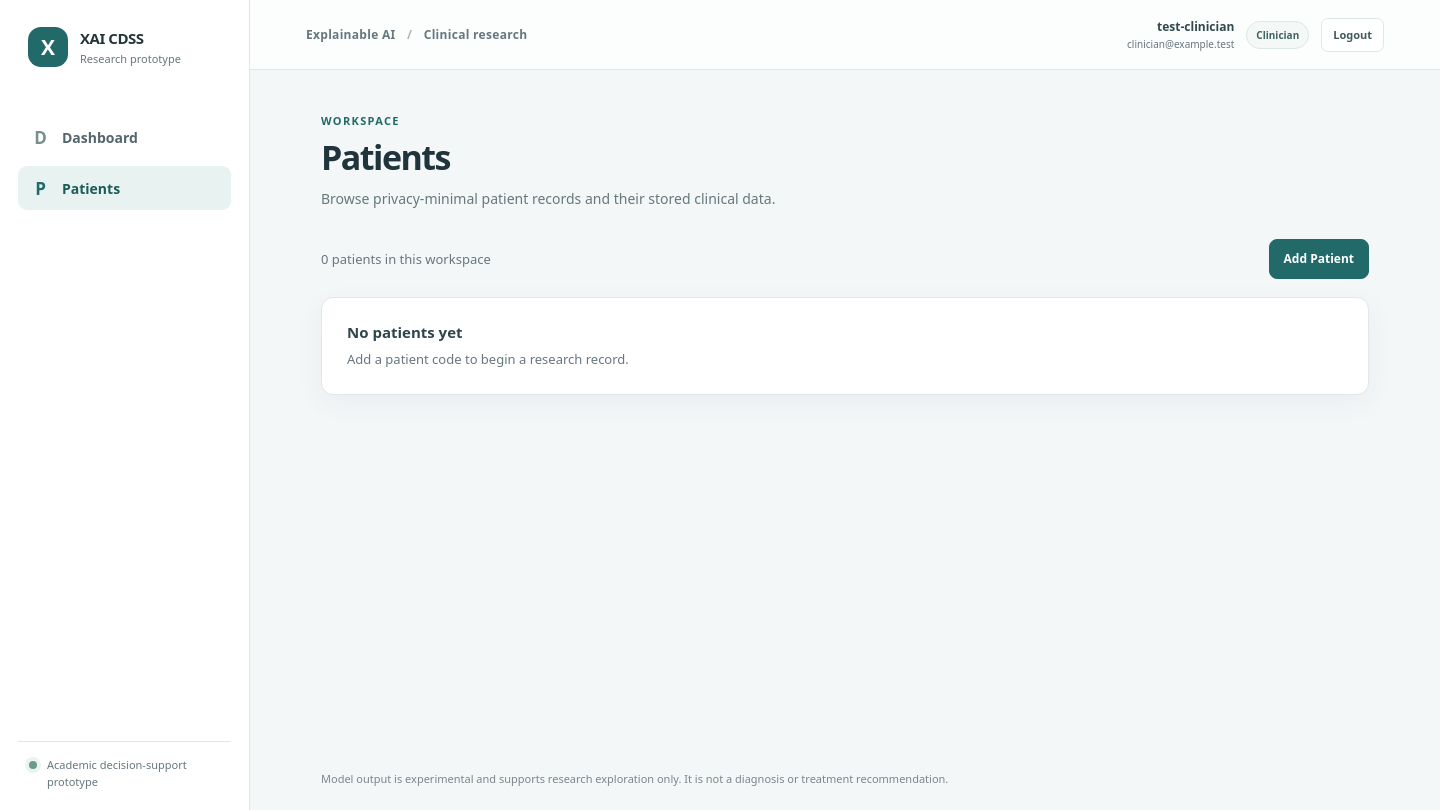
Test: patient management UI › validates patient code before submitting
Step 1. Click the button "Add Patient" → (1319, 259), box [1269,239,1369,279]
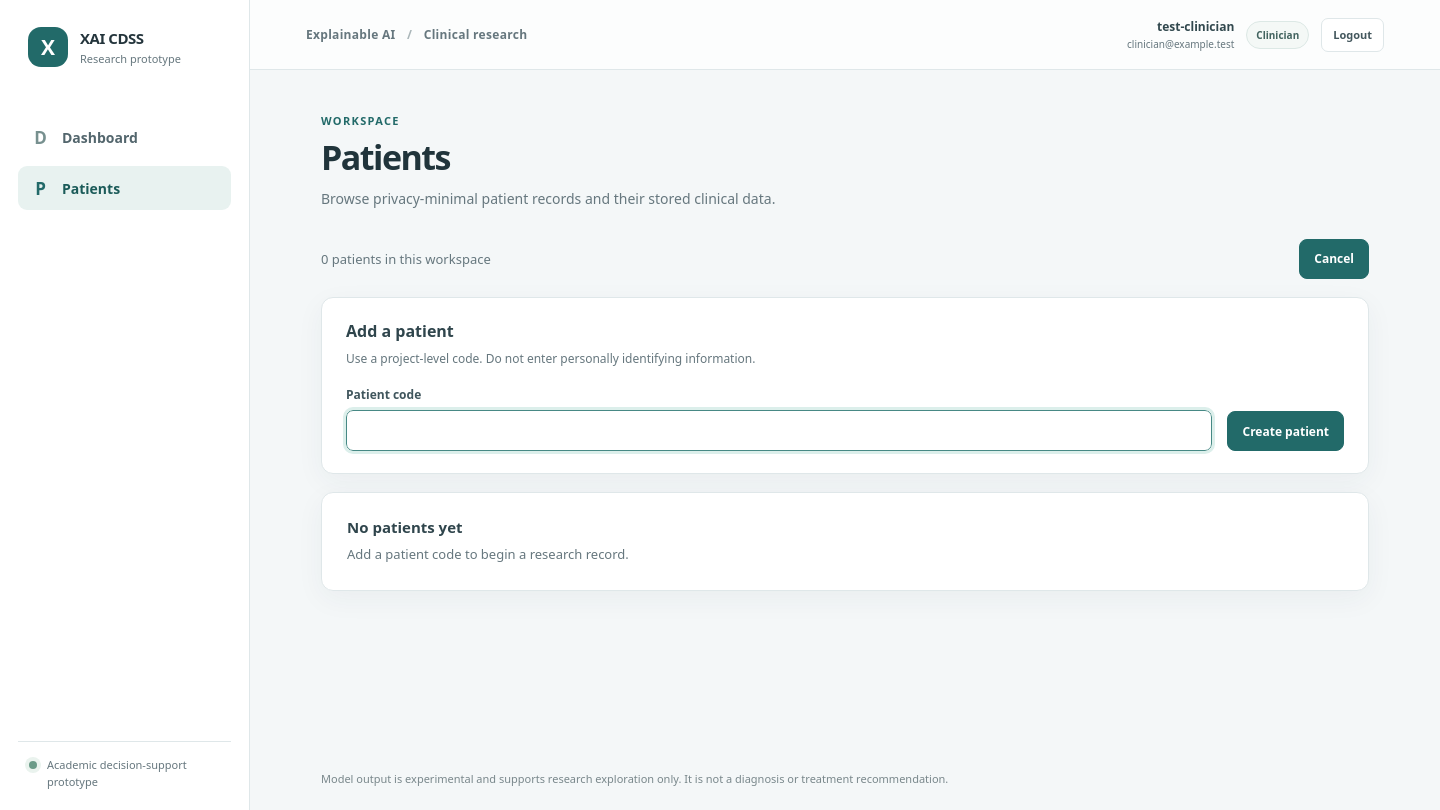
Step 2. Click the button "Create patient" → (1286, 432), box [1228,412,1344,452]
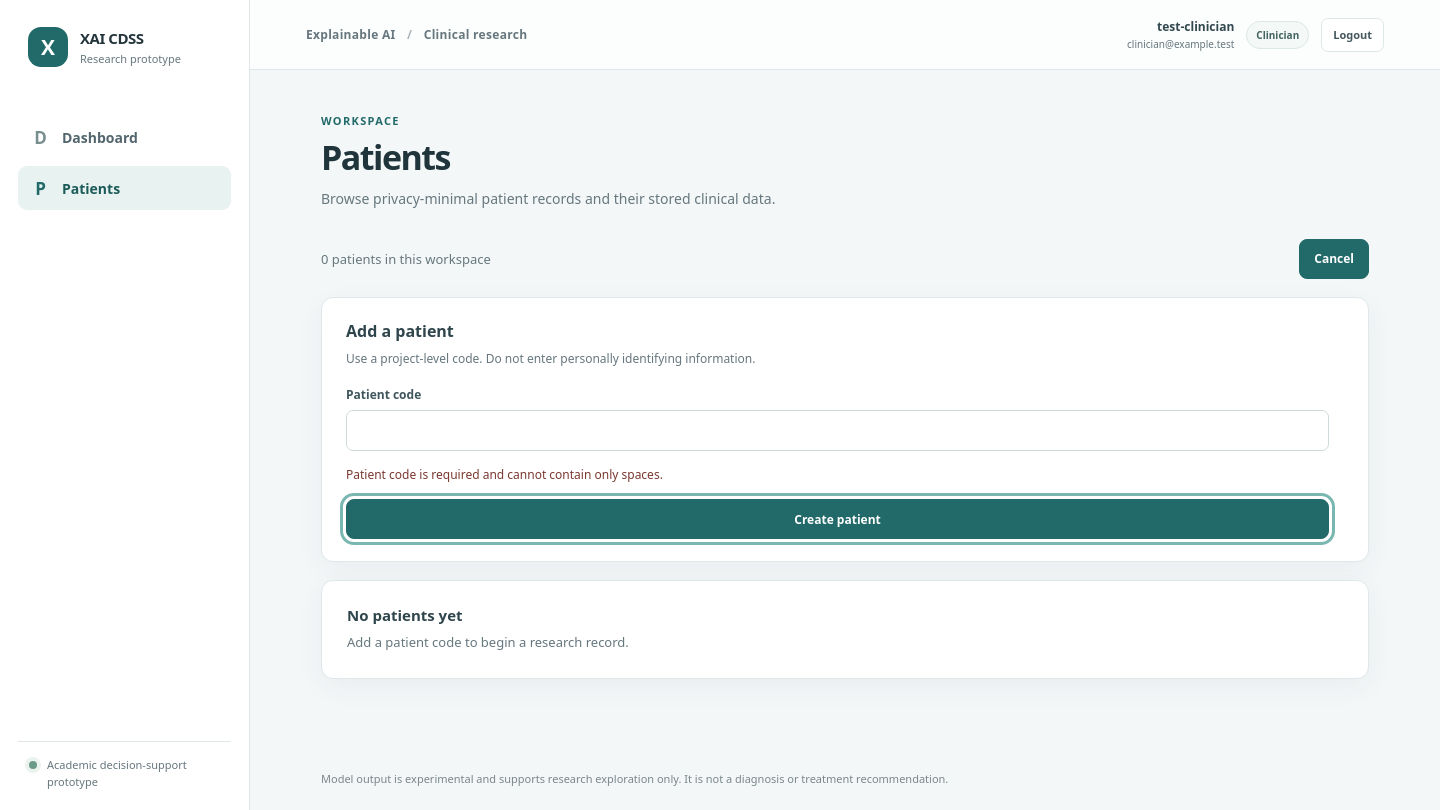
Now the text "Patient code is required and cannot contain only spaces." is shown, box [346,466,663,484]
